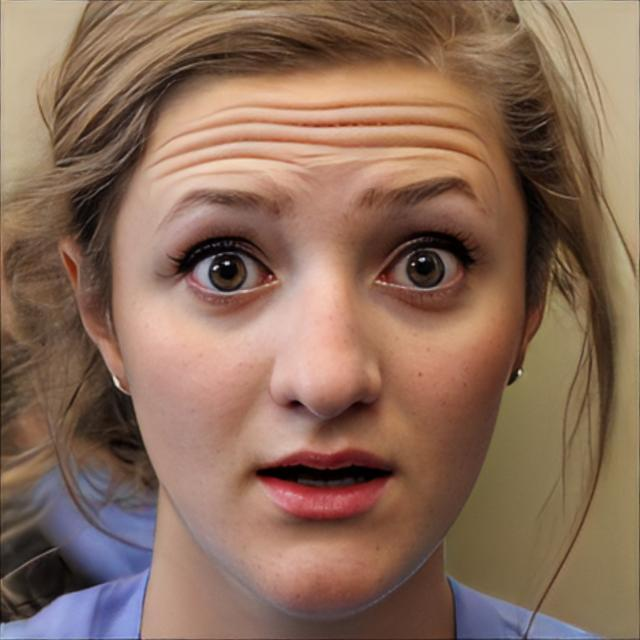fear: (115, 49, 526, 622)
